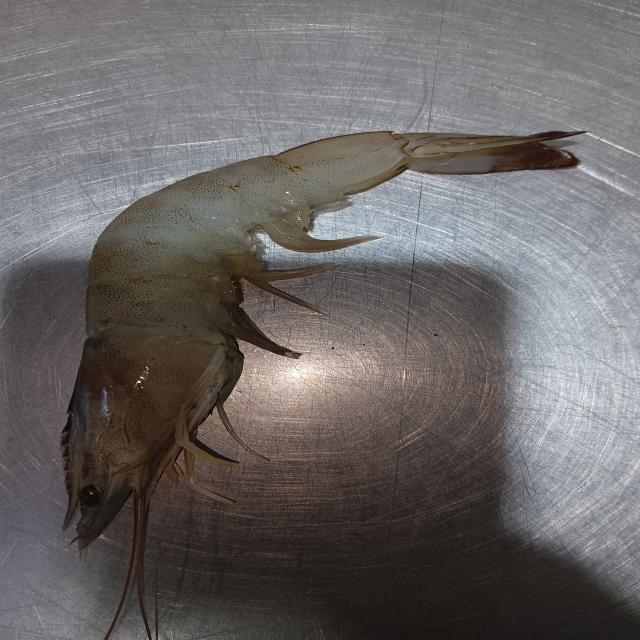shrimp: (64, 132, 560, 550)
